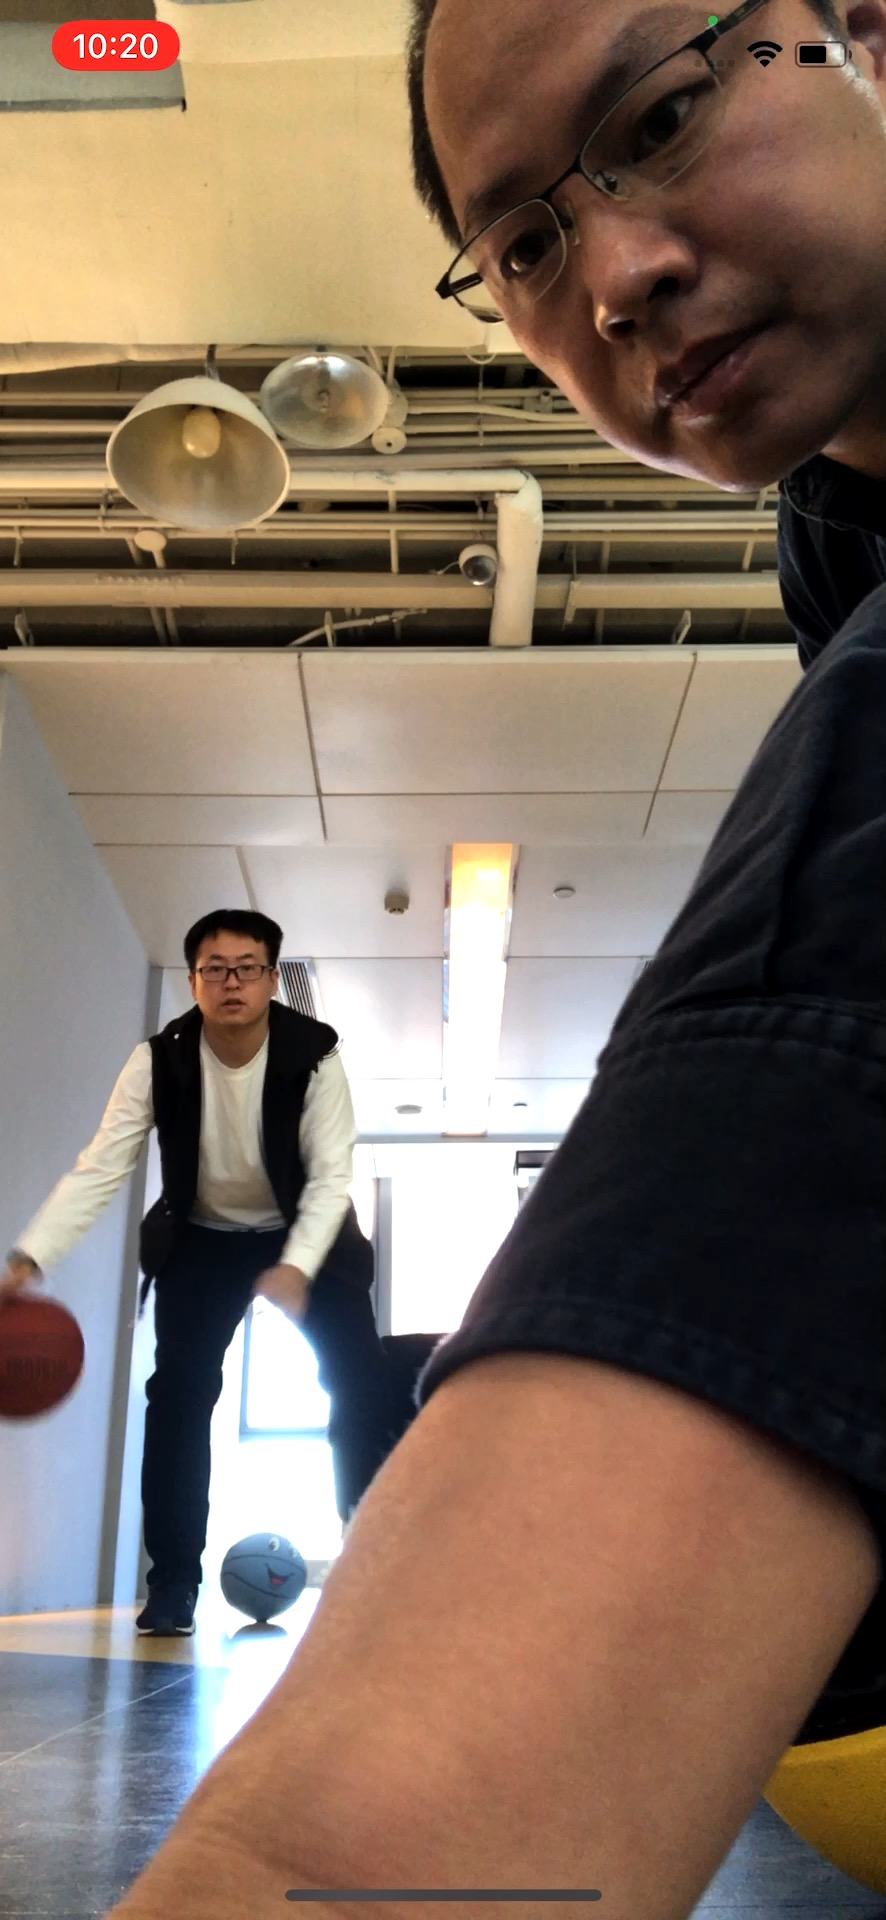ball: (4, 1291, 84, 1423), (221, 1533, 306, 1616)
